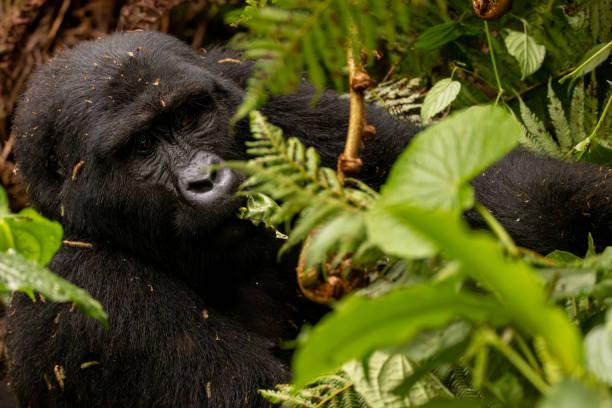goriile_montagne: (14, 22, 597, 387)
